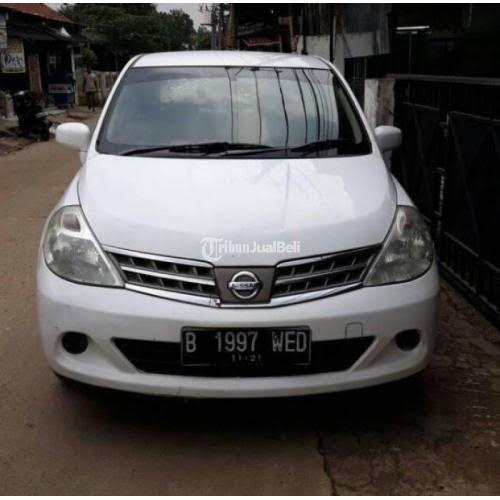plate: (179, 325, 310, 365)
